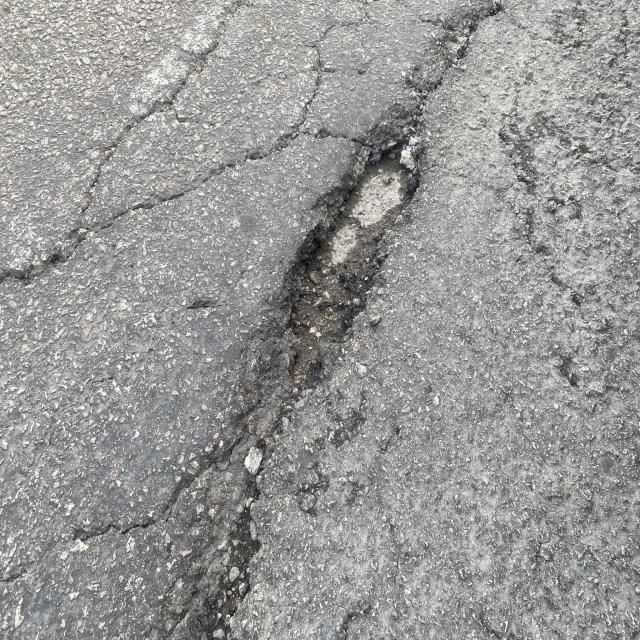Pothole: (262, 120, 432, 380)
